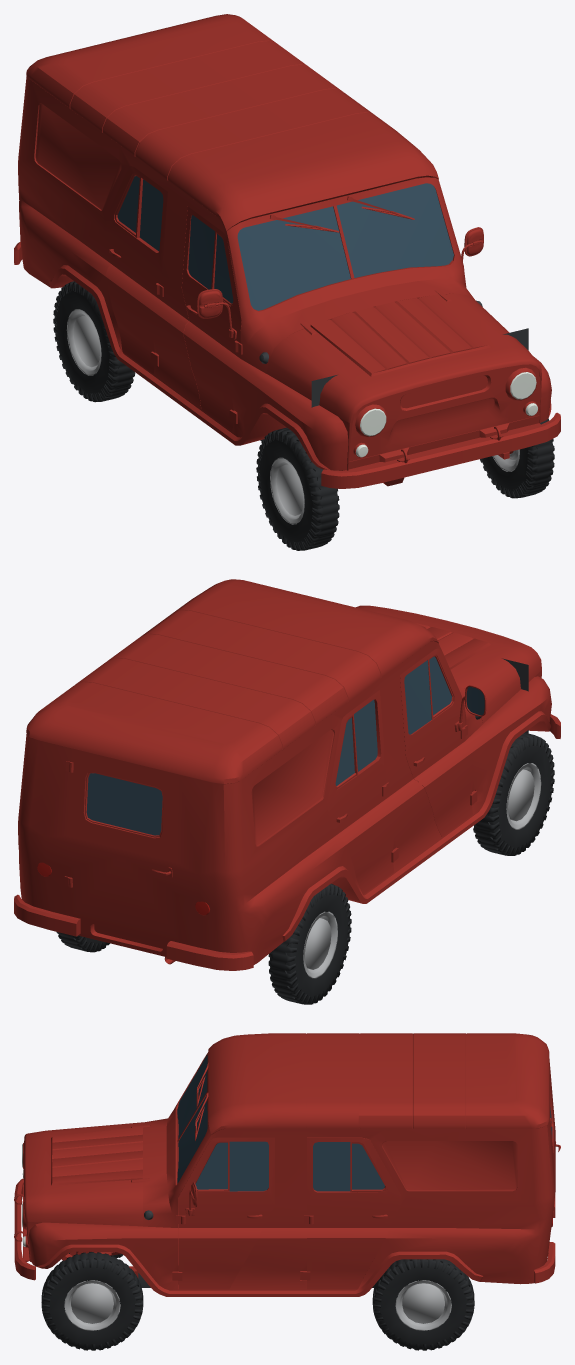
The model's file is uaz469.glb.
3 renders of one model, top to bottom at view 1: azimuth 30°, elevation 25°; view 2: azimuth 150°, elevation 25°; view 3: azimuth 270°, elevation 25°, orthographic. The views are drawn at different scales.
Parts seen in each view (by area): view 1: paint, glass, wheel_fr, wheel_rr, wheel_fl, headlights; view 2: paint, glass, wheel_rr, wheel_fr, wheel_rl; view 3: paint, glass, wheel_fl, wheel_rl.
Part boxes in pixels (left/top/right/bottom): paint: left=14, top=14, right=560, bottom=488; glass: left=117, top=176, right=453, bottom=310; wheel_fr: left=256, top=427, right=339, bottom=550; wheel_rr: left=53, top=281, right=135, bottom=402; wheel_fl: left=480, top=418, right=554, bottom=498; headlights: left=355, top=372, right=537, bottom=457; paint: left=14, top=579, right=560, bottom=970; glass: left=86, top=656, right=484, bottom=835; wheel_rr: left=268, top=883, right=351, bottom=1004; wheel_fr: left=473, top=732, right=554, bottom=855; wheel_rl: left=56, top=932, right=109, bottom=952; paint: left=14, top=1033, right=560, bottom=1296; glass: left=177, top=1055, right=552, bottom=1191; wheel_fl: left=41, top=1252, right=143, bottom=1350; wheel_rl: left=372, top=1259, right=474, bottom=1350.
Size of the model in its own units: 2.3 by 2.21 by 4.66.
